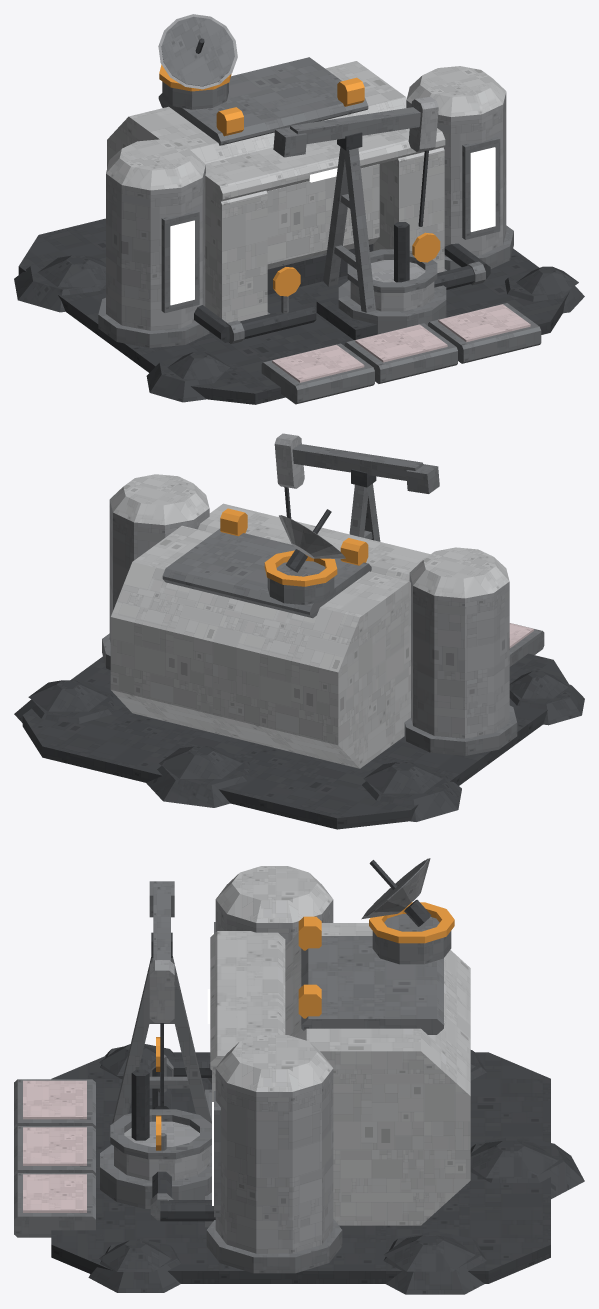
Rendered from rig_brine_lod1.glb.
The picture shows the model from 3 angles, top to bottom: view 1: azimuth 30°, elevation 25°; view 2: azimuth 150°, elevation 25°; view 3: azimuth 270°, elevation 25°; orthographic projection. The views are drawn at different scales.
Parts seen in each view (by area): view 1: rig_brine_base_body.001, rig_brine_salt_body.001, rig_brine_pump_body.001, rig_brine_dish_body.001, rig_brine_brine_glow.001, rig_brine_base_trim.001; view 2: rig_brine_base_body.001, rig_brine_pump_body.001, rig_brine_base_trim.001, rig_brine_dish_body.001; view 3: rig_brine_base_body.001, rig_brine_salt_body.001, rig_brine_pump_body.001, rig_brine_base_trim.001, rig_brine_dish_body.001.
Boxes of the visible parts, x1=… form: rig_brine_base_body.001: x1=14, y1=57, x2=584, y2=404; rig_brine_salt_body.001: x1=272, y1=304, x2=530, y2=382; rig_brine_pump_body.001: x1=273, y1=96, x2=438, y2=226; rig_brine_dish_body.001: x1=158, y1=14, x2=237, y2=89; rig_brine_brine_glow.001: x1=170, y1=147, x2=495, y2=305; rig_brine_base_trim.001: x1=159, y1=64, x2=440, y2=296; rig_brine_base_body.001: x1=14, y1=469, x2=584, y2=829; rig_brine_pump_body.001: x1=274, y1=433, x2=439, y2=518; rig_brine_base_trim.001: x1=220, y1=508, x2=368, y2=586; rig_brine_dish_body.001: x1=279, y1=509, x2=345, y2=572; rig_brine_base_body.001: x1=14, y1=866, x2=584, y2=1294; rig_brine_salt_body.001: x1=23, y1=1080, x2=86, y2=1212; rig_brine_pump_body.001: x1=149, y1=881, x2=174, y2=1107; rig_brine_base_trim.001: x1=156, y1=902, x2=454, y2=1150; rig_brine_dish_body.001: x1=361, y1=858, x2=431, y2=926.
Bounding box in the file's own units: 3.22 × 1.76 × 3.2.
3 materials, 1 textured.
